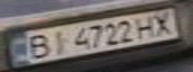2: (115, 17, 139, 44), (103, 19, 124, 47)
4: (69, 25, 90, 51)
7: (84, 21, 106, 50)
B: (18, 32, 54, 61)
H: (133, 14, 160, 40)
I: (45, 28, 72, 56)
X: (148, 11, 178, 36)
